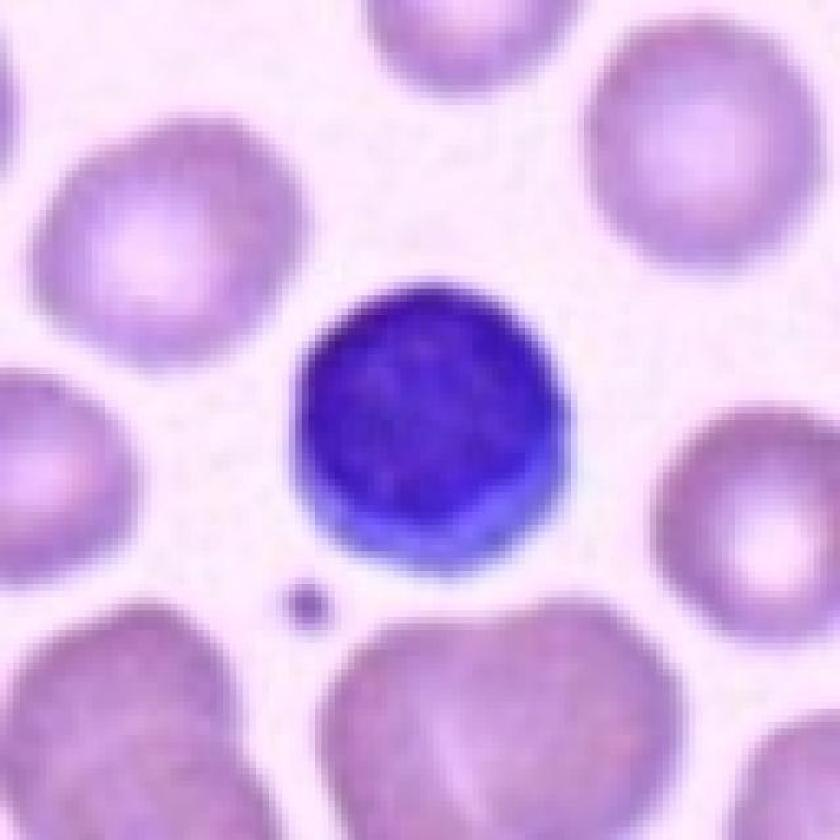lymphocyte: (284, 268, 580, 588)
